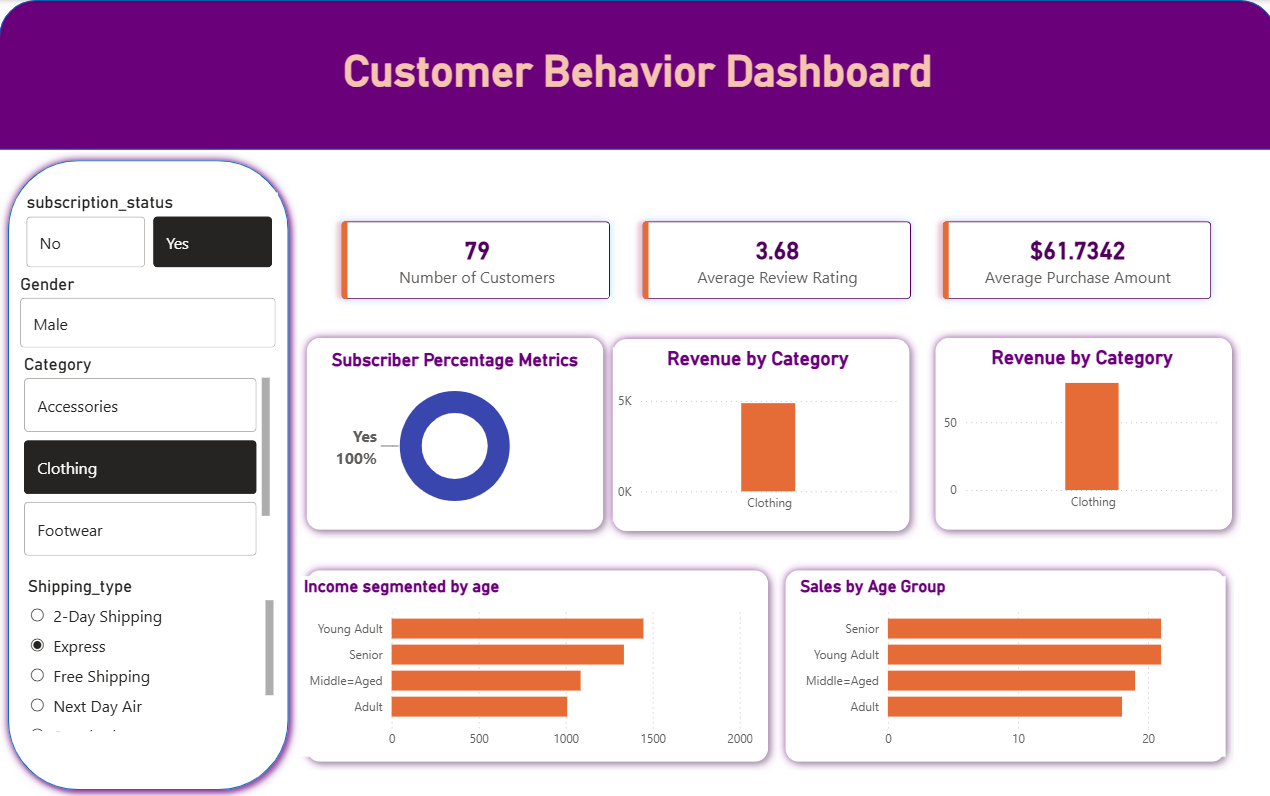

The dashboard page shown, as its layout file describes it:
{"tool":"powerbi","page":{"name":"Page 1","canvas":[1280,800],"ordinal":0},"visuals":[{"type":"cardVisual","fields":{"Data":["public customer.Number of Customers","public customer.Average Review Rating","public customer.Average Purchasen Amount"]},"box":[314,193,930.2,136],"z":0},{"type":"shape","box":[0,0,1280.2,150],"z":1000},{"type":"textbox","box":[0,41.9,1280.2,108.1],"z":2000},{"type":"shape","box":[299.1,329.1,315.1,210.5],"z":3000},{"type":"donutChart","title":"Subscriber Percentage Metrics","fields":{"Category":["public customer.subscription_status"],"Y":["CountNonNull(public customer.customer_id)"]},"box":[314.2,348.8,284.9,174.4],"z":4000},{"type":"shape","box":[606.5,330.2,315.1,210.5],"z":5000},{"type":"shape","box":[929.1,329.1,315.1,210.5],"z":6000},{"type":"clusteredColumnChart","title":"Revenue by Category","fields":{"Y":["Sum(public customer.purchase_amount)"],"Category":["public customer.category"]},"box":[614.8,348.5,290.9,174.3],"z":7000},{"type":"clusteredColumnChart","title":"Revenue by Category","fields":{"Category":["public customer.category"],"Y":["CountNonNull(public customer.customer_id)"]},"box":[941.3,347.2,286.8,174.3],"z":8000},{"type":"shape","box":[0,150.9,299.1,649.1],"z":9000},{"type":"advancedSlicerVisual","fields":{"Values":["public customer.subscription_status"]},"box":[22,193.5,256.6,81],"z":10000},{"type":"advancedSlicerVisual","fields":{"Values":["public customer.gender"]},"box":[16.5,274.4,266.2,79.6],"z":11000},{"type":"advancedSlicerVisual","title":"Category","fields":{"Values":["public customer.category"]},"box":[20.6,354,256.6,209.9],"z":12000},{"type":"listSlicer","fields":{"Values":["public customer.shipping_type"]},"box":[23.3,577.7,256.6,160.5],"z":13000},{"type":"shape","box":[299.1,562.6,480.3,209.9],"z":15000},{"type":"shape","box":[779.4,562.6,458.3,209.9],"z":15001},{"type":"clusteredBarChart","title":"Sales by Age Group","fields":{"Category":["public customer.age_group"],"Y":["CountNonNull(public customer.customer_id)"]},"box":[797.3,577.7,430.9,181.1],"z":15002},{"type":"clusteredBarChart","title":"Income segmented by age","fields":{"Y":["Sum(public customer.purchase_amount)"],"Category":["public customer.age_group"]},"box":[300.5,577.7,459.7,181.1],"z":15003}]}

Visuals, with their boxes in screenshot pixels (x1, y1, x2, y2), scaled from the page's 1280x800 canvas onto the 1270x796 screenshot:
cardVisual - public customer.Number of Customers x public customer.Average Review Rating: select_region(312, 192, 1234, 327)
shape: select_region(0, 0, 1269, 149)
textbox: select_region(0, 42, 1269, 149)
shape: select_region(297, 327, 609, 537)
"Subscriber Percentage Metrics" donutChart: select_region(312, 347, 594, 521)
shape: select_region(602, 329, 914, 538)
shape: select_region(922, 327, 1234, 537)
"Revenue by Category" clusteredColumnChart: select_region(610, 347, 899, 520)
"Revenue by Category" clusteredColumnChart: select_region(934, 345, 1219, 519)
shape: select_region(0, 150, 297, 795)
advancedSlicerVisual - public customer.subscription_status: select_region(22, 193, 276, 273)
advancedSlicerVisual - public customer.gender: select_region(16, 273, 280, 352)
"Category" advancedSlicerVisual: select_region(20, 352, 275, 561)
listSlicer - public customer.shipping_type: select_region(23, 575, 278, 735)
shape: select_region(297, 560, 773, 769)
shape: select_region(773, 560, 1228, 769)
"Sales by Age Group" clusteredBarChart: select_region(791, 575, 1219, 755)
"Income segmented by age" clusteredBarChart: select_region(298, 575, 754, 755)
